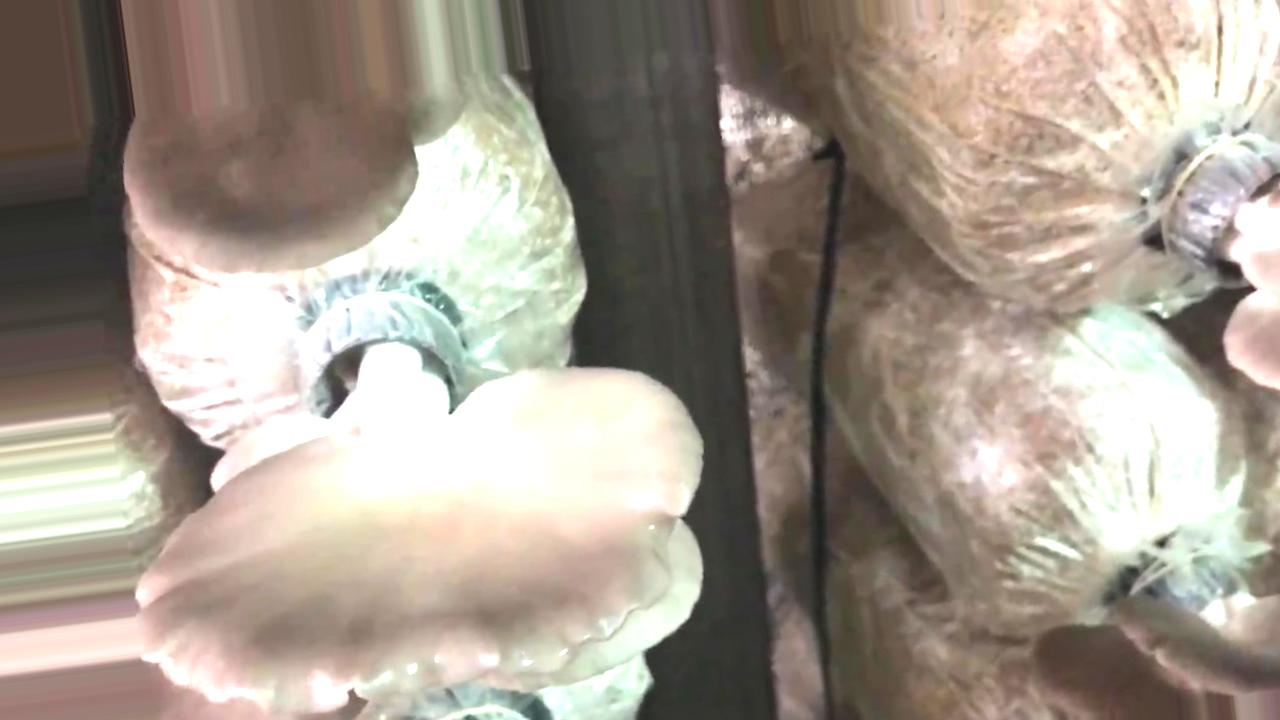nam: (136, 306, 709, 706), (129, 1, 460, 281), (1032, 537, 1275, 720), (1155, 123, 1280, 385)
